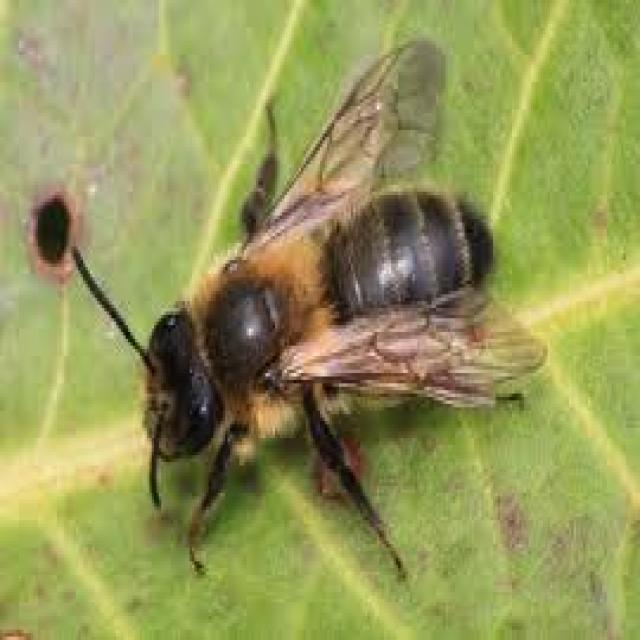Bees: (73, 39, 549, 582)
